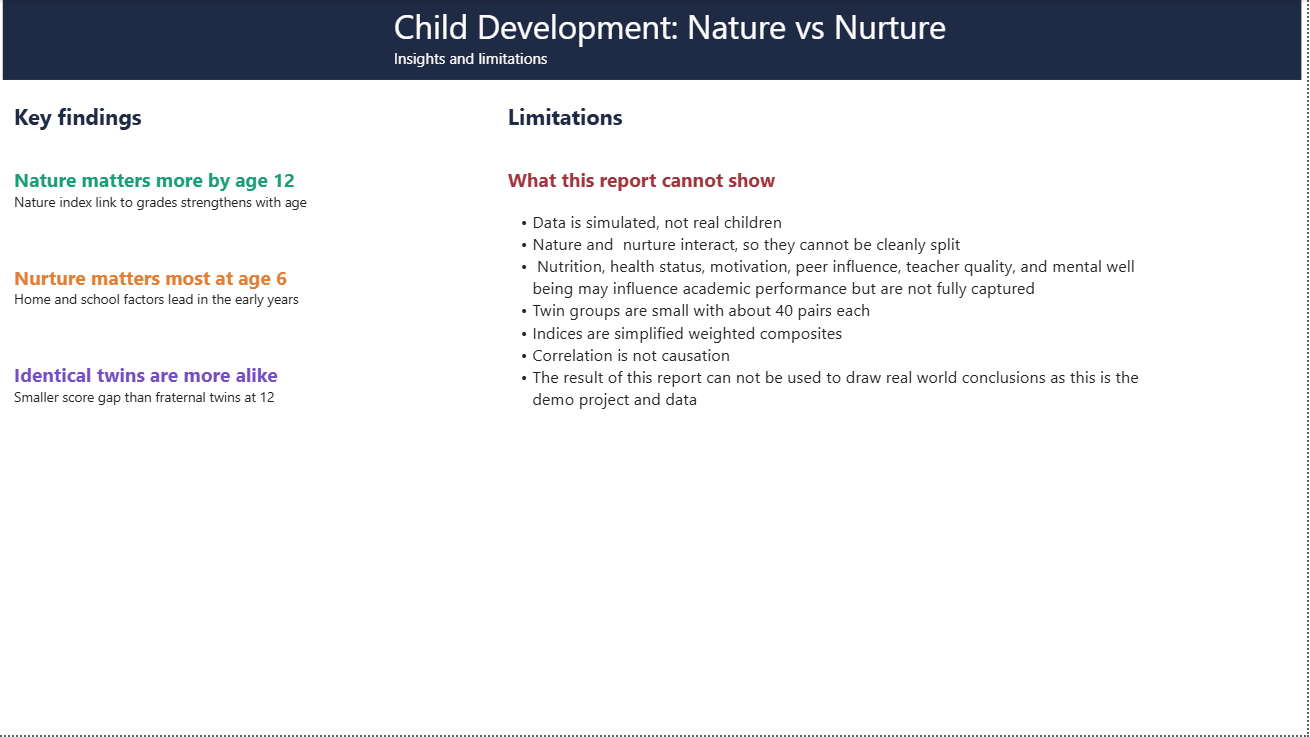

This screenshot's page, from the dashboard's own definition file:
{"tool":"powerbi","page":{"name":"Insights","canvas":[1280,720],"ordinal":4},"visuals":[{"type":"textbox","box":[10,168.5,302,150],"z":1},{"type":"shape","box":[3.7,0,1270.5,79.5],"z":2},{"type":"textbox","box":[381.5,0,576,79.5],"z":3},{"type":"textbox","box":[9.8,95.4,302,336.3],"z":4},{"type":"textbox","box":[492.8,95.4,640.8,336.3],"z":5}]}

Visuals, with their boxes in screenshot pixels (x1, y1, x2, y2), scaled from the page's 1280x720 canvas onto the 1310x737 screenshot:
textbox: {"left": 10, "top": 172, "right": 319, "bottom": 326}
shape: {"left": 4, "top": 0, "right": 1304, "bottom": 81}
textbox: {"left": 390, "top": 0, "right": 980, "bottom": 81}
textbox: {"left": 10, "top": 98, "right": 319, "bottom": 442}
textbox: {"left": 504, "top": 98, "right": 1160, "bottom": 442}
